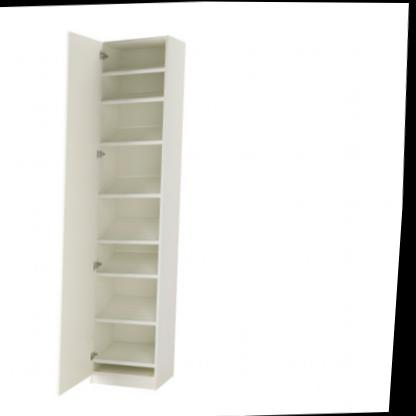Cabinet: (46, 25, 204, 401)
